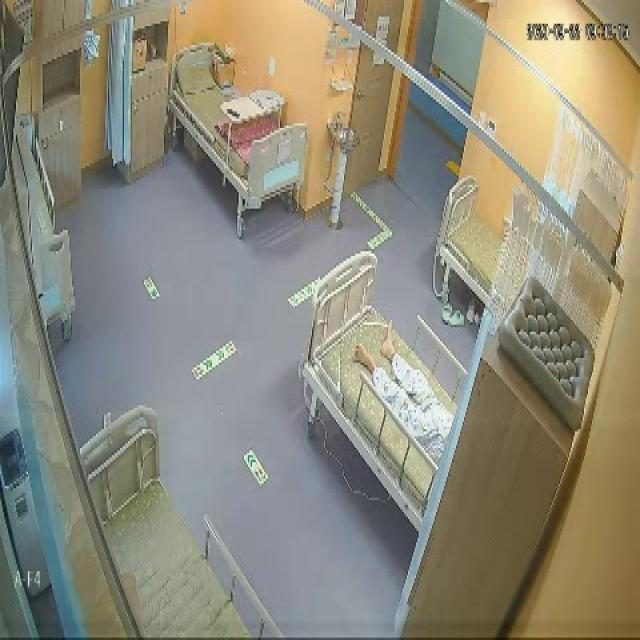bed: (78, 409, 283, 640), (302, 253, 458, 528), (164, 42, 309, 210), (438, 176, 502, 306)
lie: (354, 314, 452, 463)
patient: (353, 318, 452, 462)
